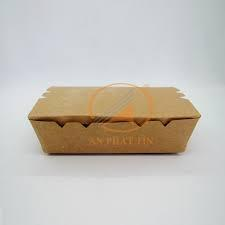box: (27, 85, 202, 154)
